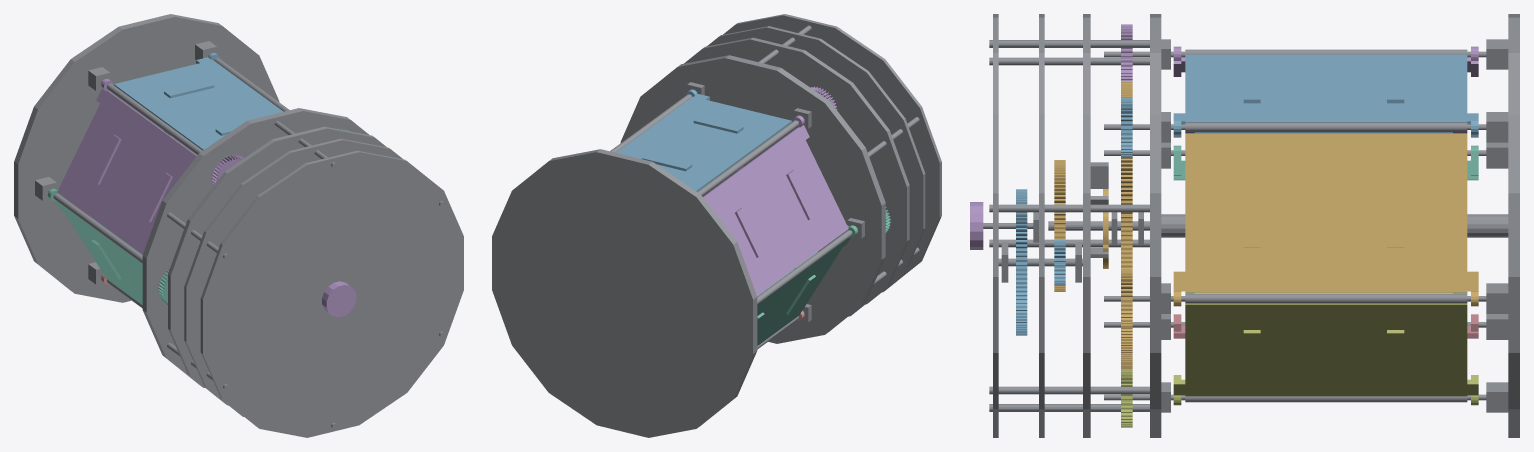
The model's file is storage_research.glb.
3 views of the same model, side by side, from view 1: azimuth 30°, elevation 25°; view 2: azimuth 150°, elevation 25°; view 3: azimuth 270°, elevation 25° (orthographic). The views are drawn at different scales.
Parts seen in each view (by area): view 1: fixed/support_plate3, fixed/base, door2/panel, fixed/roof, door1/panel, fixed/support_plate1, fixed/support_plate2, door3/panel, drive/knob_clutch, fixed/corner_tube2, fixed/corner_tube3, door2/leg_strap (+3 smaller); view 2: fixed/base, fixed/roof, door2/panel, fixed/support_plate1, door1/panel, fixed/support_plate3, fixed/support_plate2, door3/panel, fixed/corner_tube2, fixed/corner_tube3, fixed/corner_tube1, door2/leg_strap (+2 smaller); view 3: door0/panel, door5/panel, door1/panel, fixed/base, fixed/roof, fixed/support_plate1, fixed/corner_tube0, fixed/corner_tube1, fixed/support_plate2, fixed/support_plate3, fixed/corner_tube5, drive/sun200 (+29 smaller).
Boxes of the visible parts, <box> form: fixed/support_plate3: <box>200,150,463,437</box>; fixed/base: <box>14,14,279,302</box>; door2/panel: <box>57,90,196,254</box>; fixed/roof: <box>142,108,368,387</box>; door1/panel: <box>114,60,283,150</box>; fixed/support_plate1: <box>168,126,386,405</box>; fixed/support_plate2: <box>184,138,402,416</box>; door3/panel: <box>58,202,142,304</box>; drive/knob_clutch: <box>322,281,356,317</box>; fixed/corner_tube2: <box>107,83,202,154</box>; fixed/corner_tube3: <box>53,193,142,263</box>; door2/leg_strap: <box>91,134,121,184</box>; fixed/base: <box>492,149,757,437</box>; fixed/roof: <box>620,55,885,343</box>; door2/panel: <box>703,127,848,295</box>; fixed/support_plate1: <box>684,37,909,316</box>; door1/panel: <box>616,96,791,191</box>; fixed/support_plate3: <box>723,14,941,292</box>; fixed/support_plate2: <box>707,26,925,304</box>; door3/panel: <box>757,238,848,345</box>; fixed/corner_tube2: <box>697,120,798,196</box>; fixed/corner_tube3: <box>757,230,852,304</box>; fixed/corner_tube1: <box>610,94,691,152</box>; door2/leg_strap: <box>735,207,764,257</box>; door0/panel: <box>1185,133,1467,292</box>; door5/panel: <box>1185,303,1467,396</box>; door1/panel: <box>1185,54,1467,122</box>; fixed/base: <box>1508,14,1519,437</box>; fixed/roof: <box>1150,14,1161,437</box>; fixed/support_plate1: <box>1083,14,1090,437</box>; fixed/corner_tube0: <box>1185,294,1467,303</box>; fixed/corner_tube1: <box>1185,122,1467,131</box>; fixed/support_plate2: <box>1039,14,1044,437</box>; fixed/support_plate3: <box>993,14,998,437</box>; fixed/corner_tube5: <box>1185,396,1467,402</box>; drive/sun200: <box>1121,81,1132,368</box>.
Size of the model in its own units: 440 by 440 by 575.
